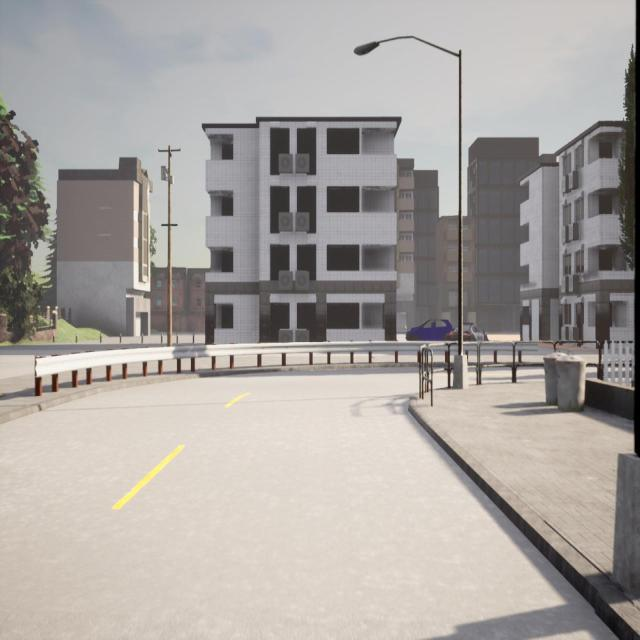Vehicle: (406, 318, 454, 341), (447, 322, 488, 342)
